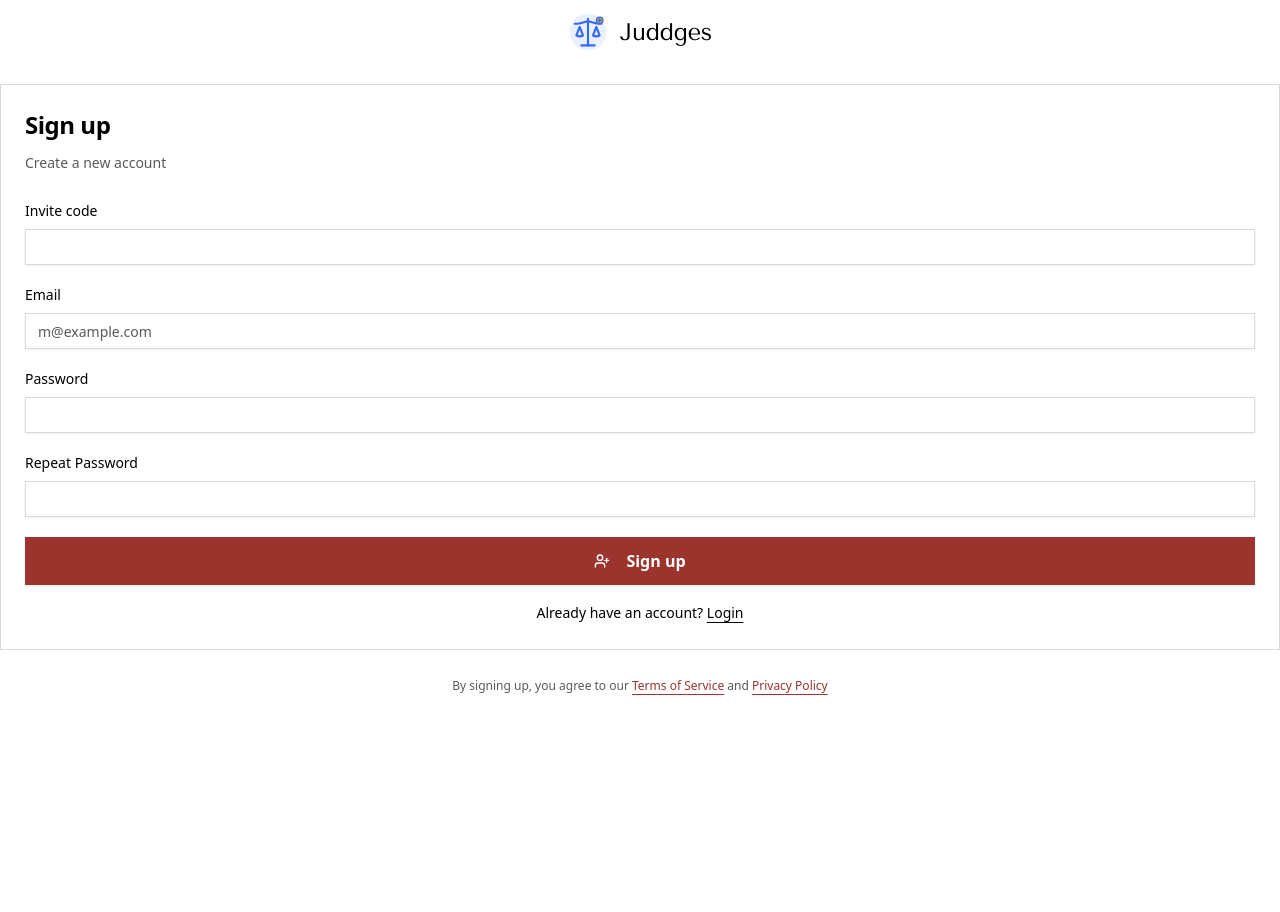
Test: SignUpForm invite redemption errors › shows a wait-and-retry message on the per-email-limiter 429 shape
Type "PILOT-2026" into the field labelled "Invite code" at (640, 247), box [25,229,1255,265]
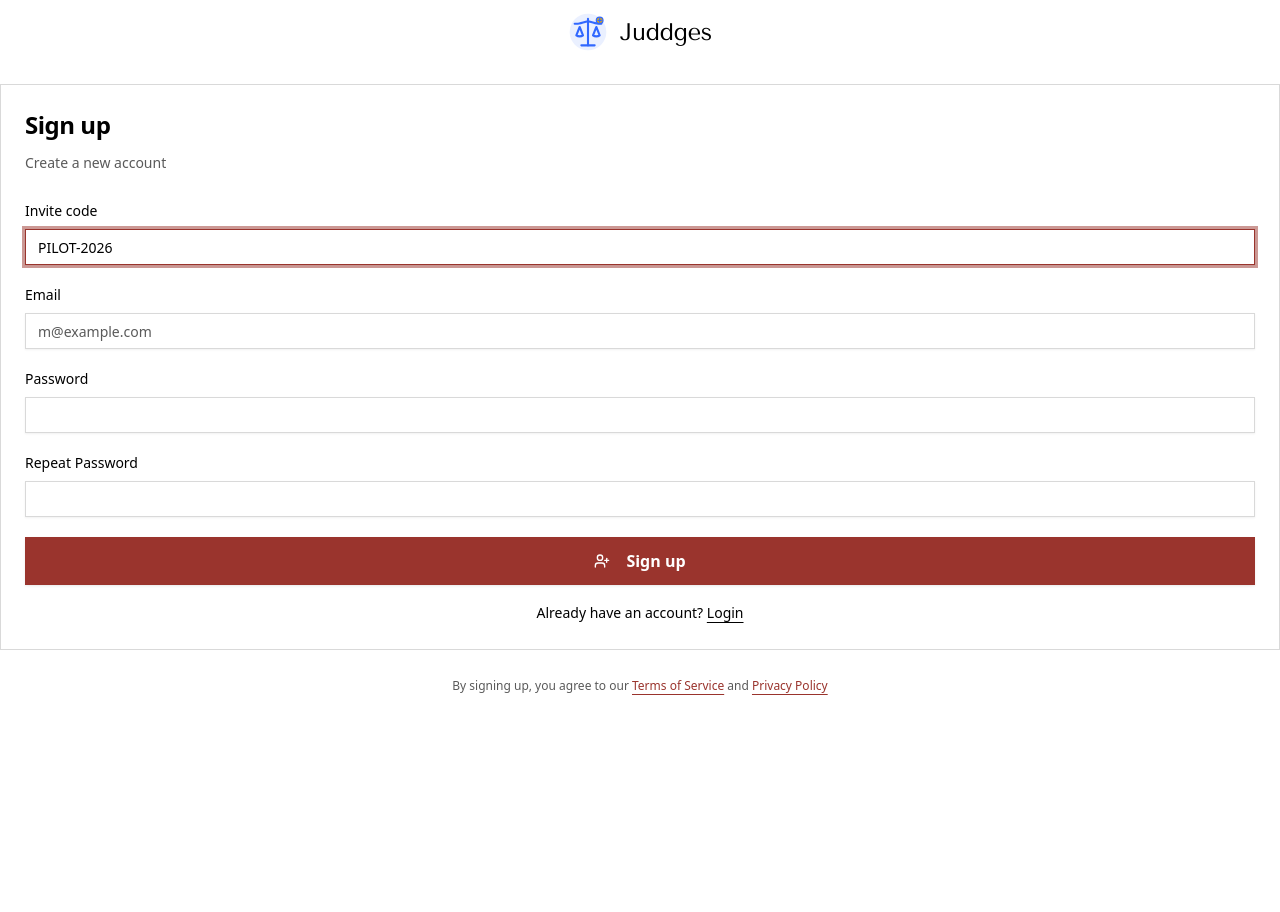
Type "a@example.org" into the field labelled "Email" at (640, 331), box [25,313,1255,349]
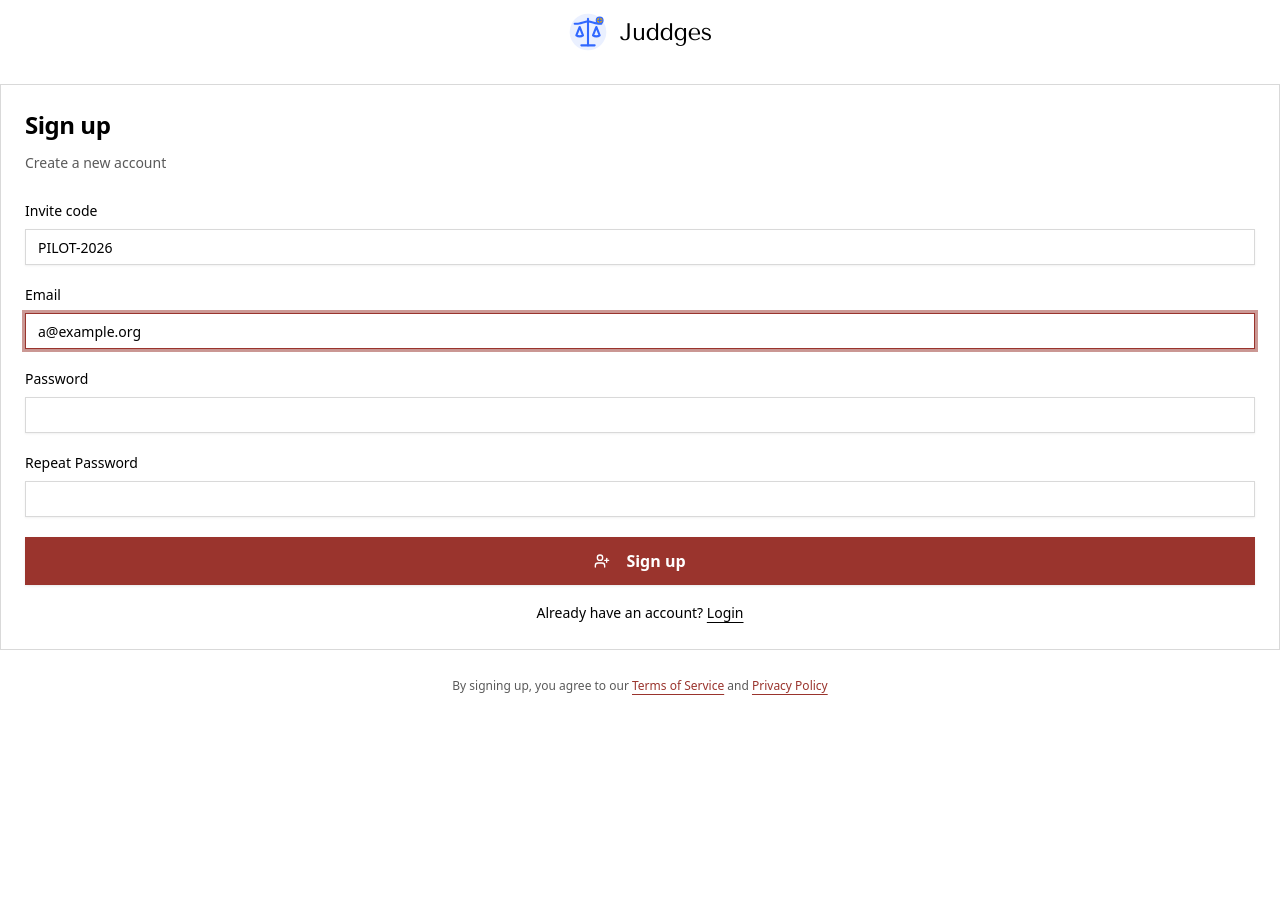
Type "correct horse battery" into the password field labelled "Password" at (640, 415), box [25,397,1255,433]
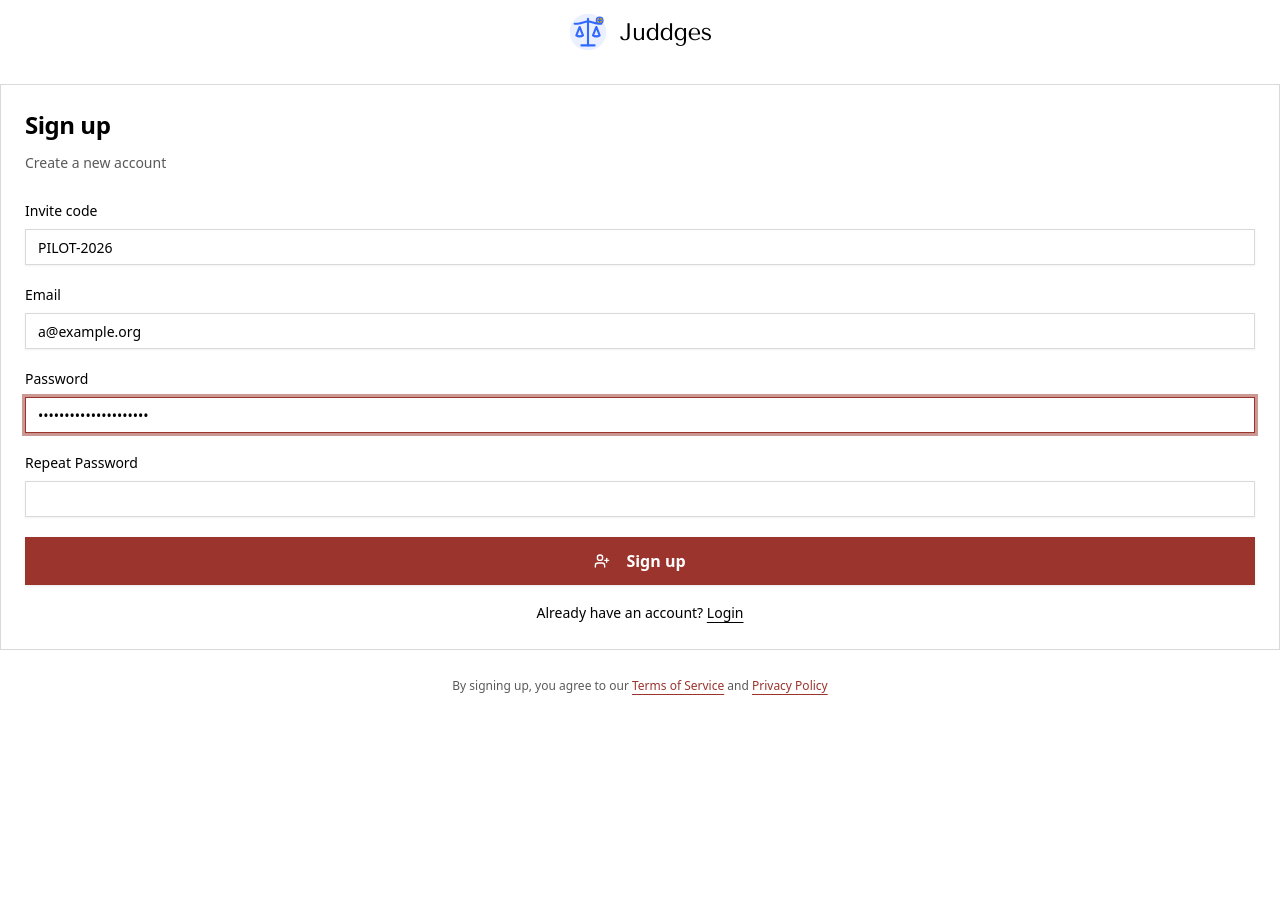
Type "correct horse battery" into the password field labelled "Repeat Password" at (640, 499), box [25,481,1255,517]
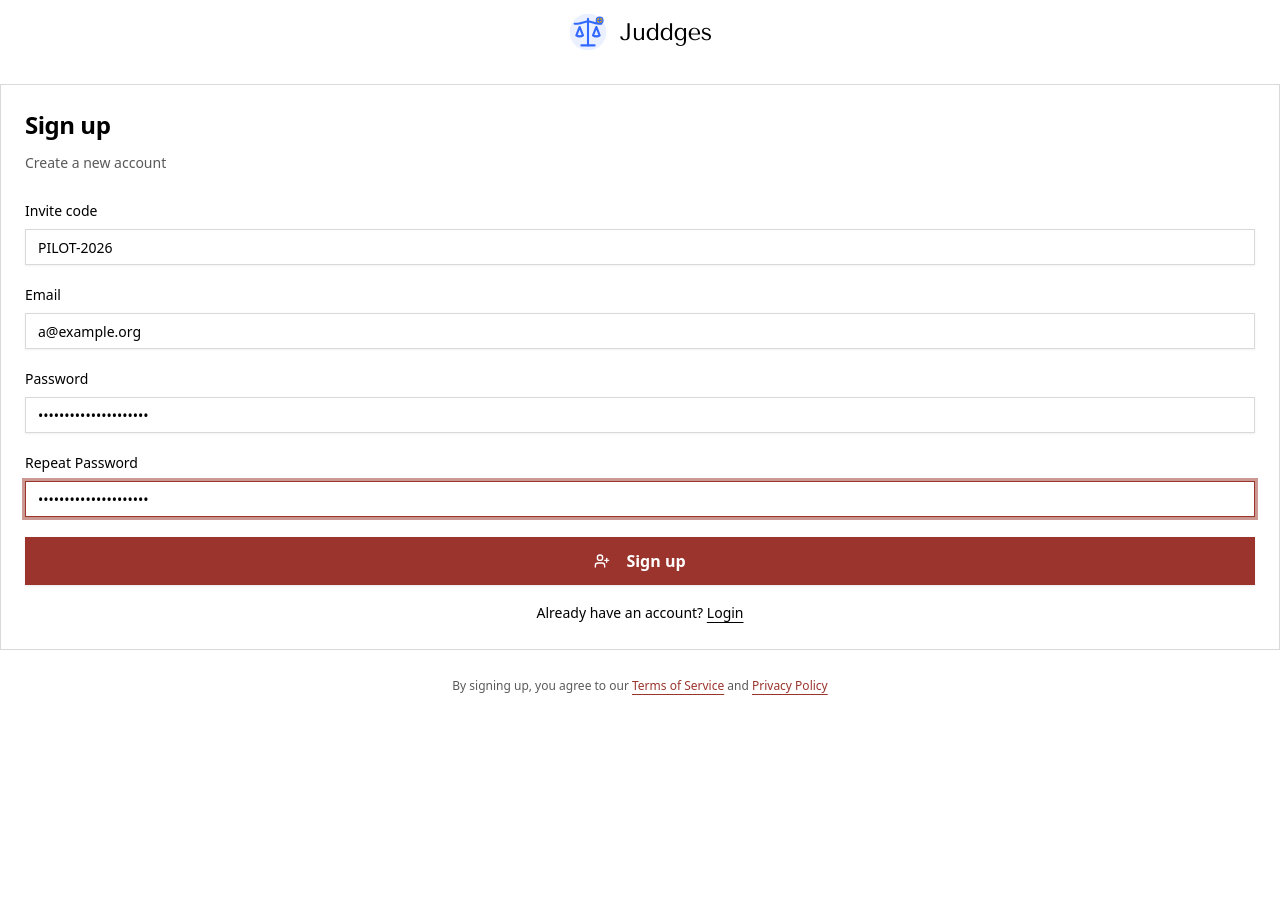
Click the button "Sign up" at (640, 561), box [25,537,1255,585]
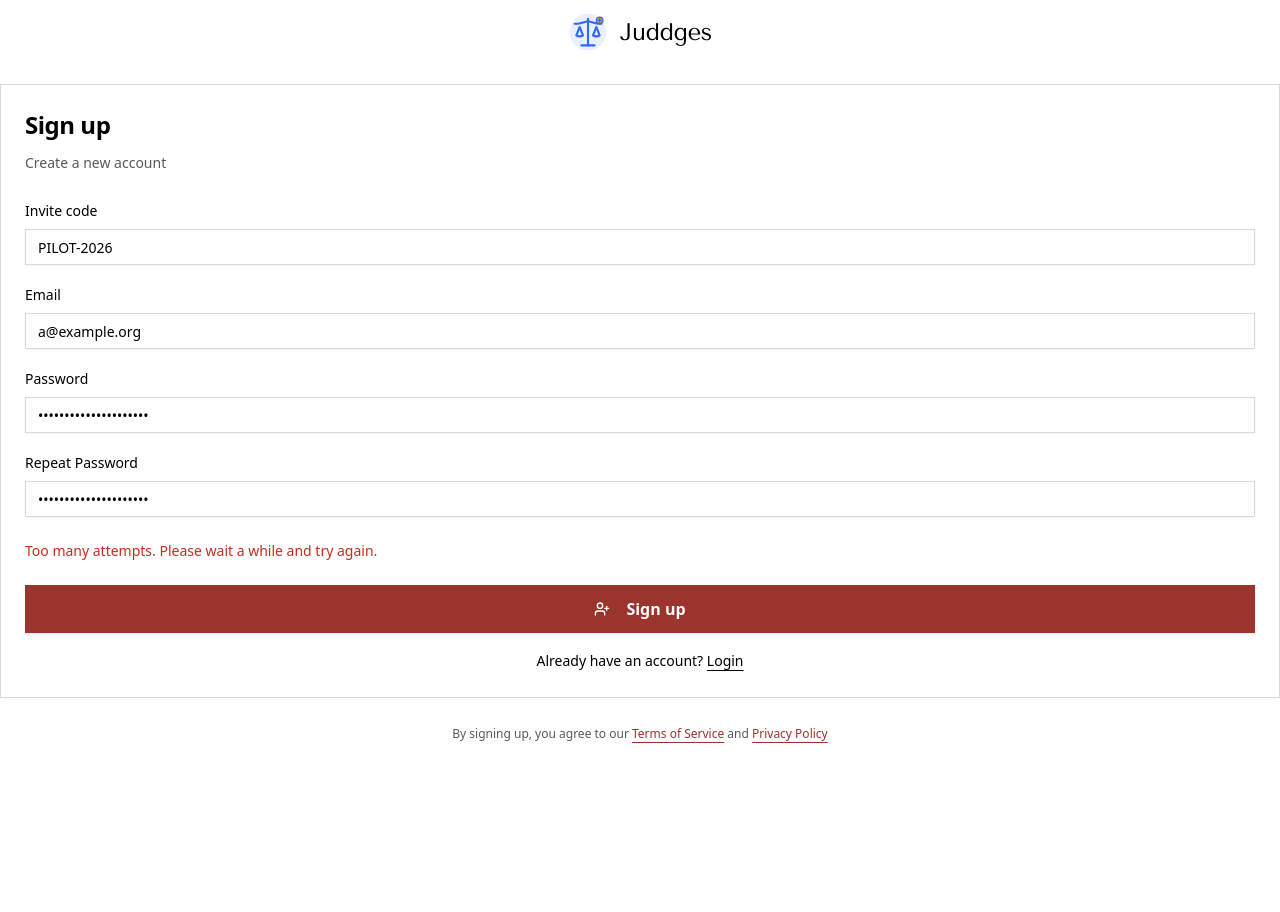
Expected: the text "Too many attempts. Please wait a while and try again." is shown, [25,541,377,560]
